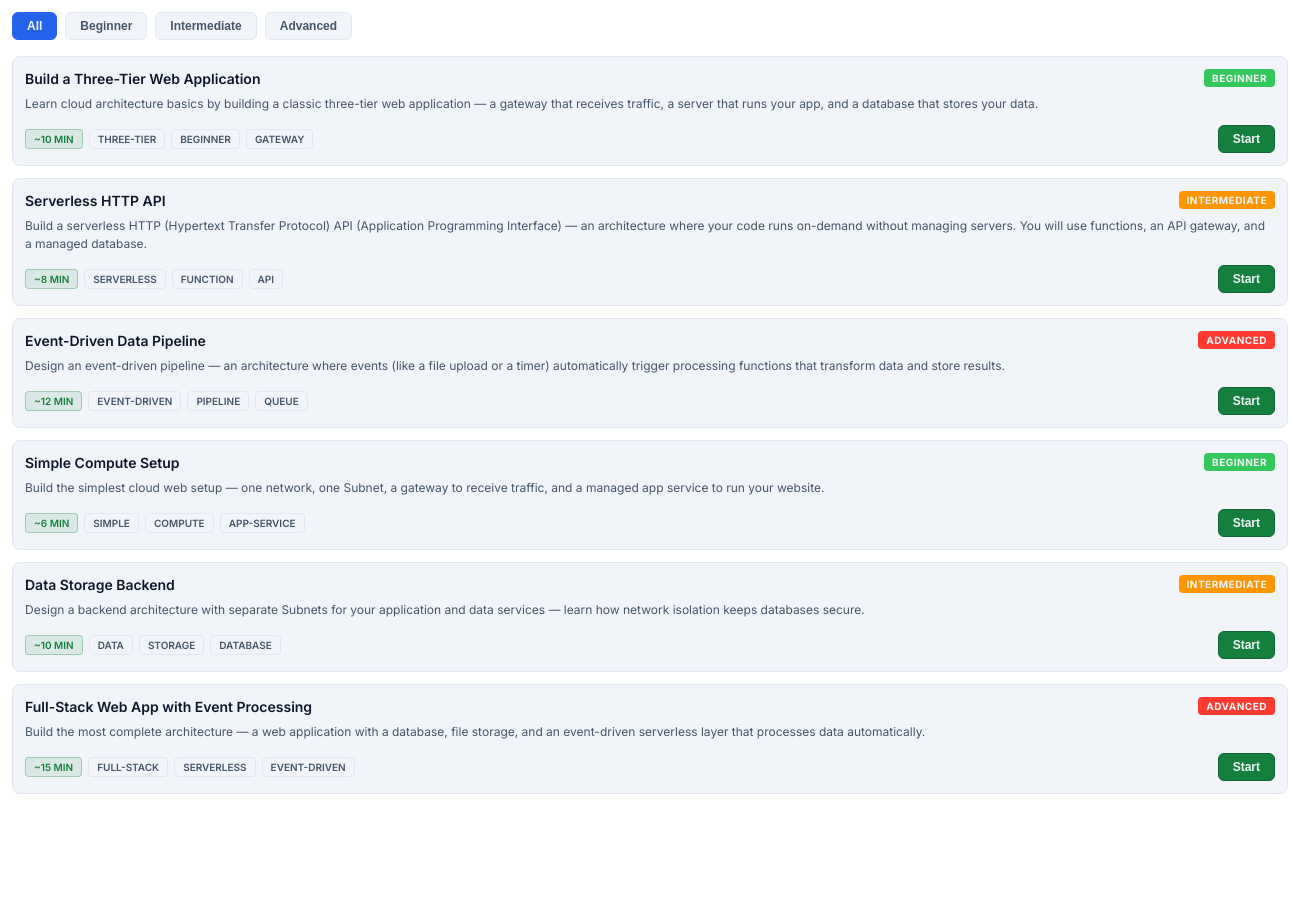
Test: ScenarioGallery › Advanced filter shows only advanced scenarios
Click the button "Advanced". click: (308, 26)
box: [265, 12, 352, 40]
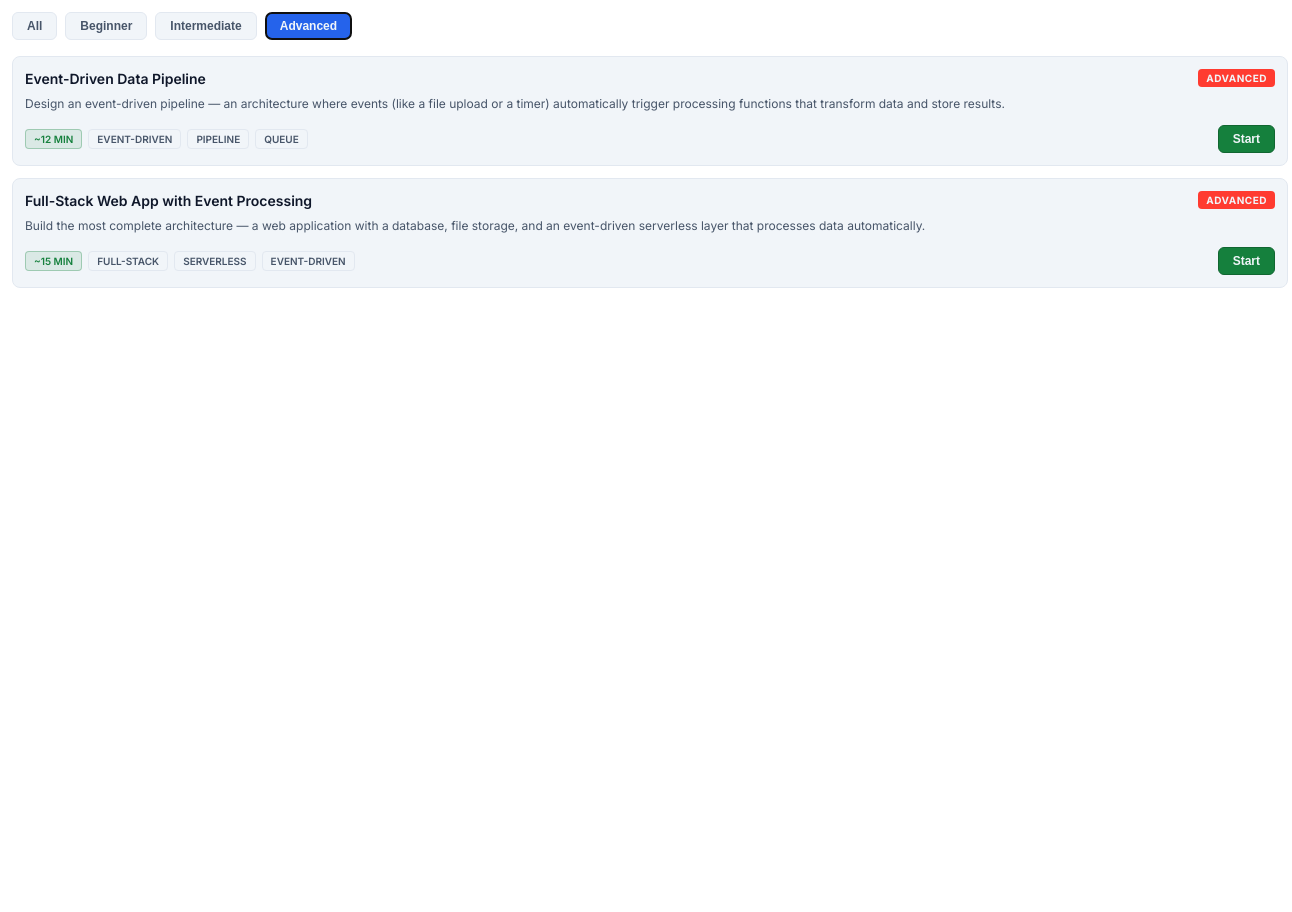
Expected: the text "Event-Driven Data Pipeline" is shown, [25, 70, 206, 86]
Result: the text "Build a Three-Tier Web Application" is gone
Result: the text "Serverless HTTP API" is gone
